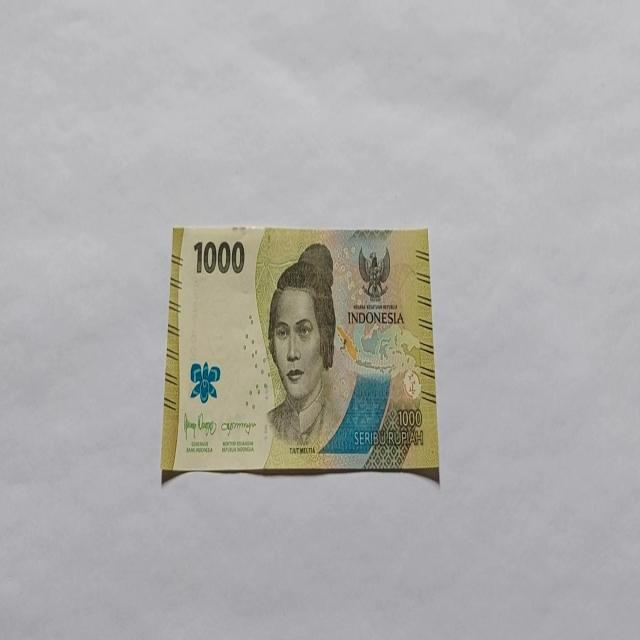seribu rupiah kertas: (160, 223, 439, 482)
